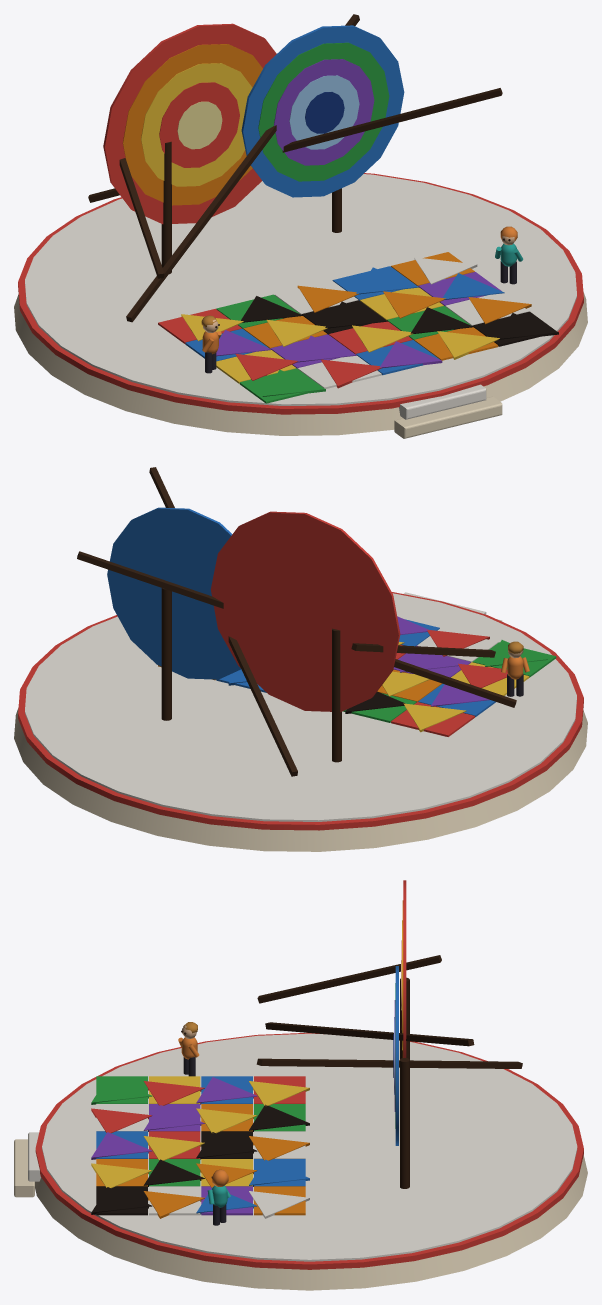
Rendered from circlesSquare.glb.
3 views of the same model, one above another, from view 1: azimuth 30°, elevation 25°; view 2: azimuth 150°, elevation 25°; view 3: azimuth 270°, elevation 25° (orthographic). The views are drawn at different scales.
Parts seen in each view (by area): view 1: part_000, part_001, part_002; view 2: part_000, part_001, part_002; view 3: part_000, part_001, part_002.
Part boxes in pixels (x1,y1,x2,y2): part_000: (14,14,587,438); part_001: (103,23,276,224); part_002: (241,25,404,197); part_000: (14,467,587,851); part_001: (210,511,400,712); part_002: (107,507,240,679); part_000: (14,955,587,1290); part_001: (401,880,406,1057); part_002: (393,966,398,1145).
Size of the model in its own units: 11.12 by 5.7 by 11.47.
